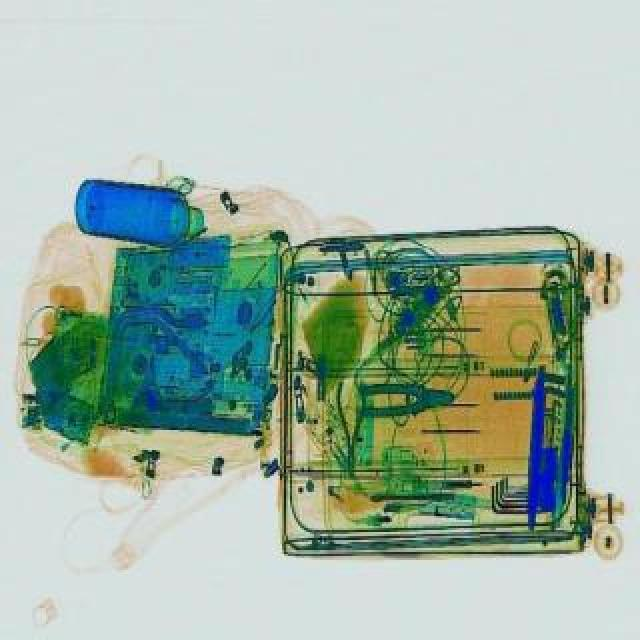wrench: (356, 380, 452, 416), (334, 380, 366, 476)
